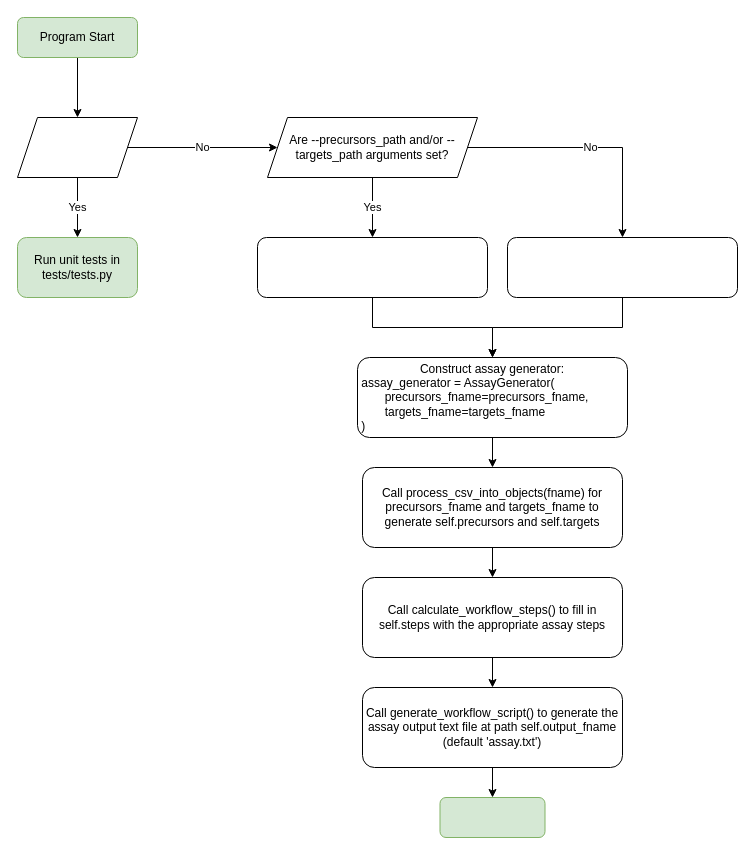
Some shapes in this 755 by 855 pixel diagram are drawn without their labels. The shapes that lost their labels are listed below. From the top down, each one's centre as x and y in pixels, then its label:
At point 77,147: "Is --run_test argument active?".
At point 372,267: "Set: precursors_fname = args.precursor_path targets_fname = args.target_path".
At point 622,267: "Set: precursors_fname = args.precursor_path targets_fname = 'targets.csv'".
At point 492,817: "End".
